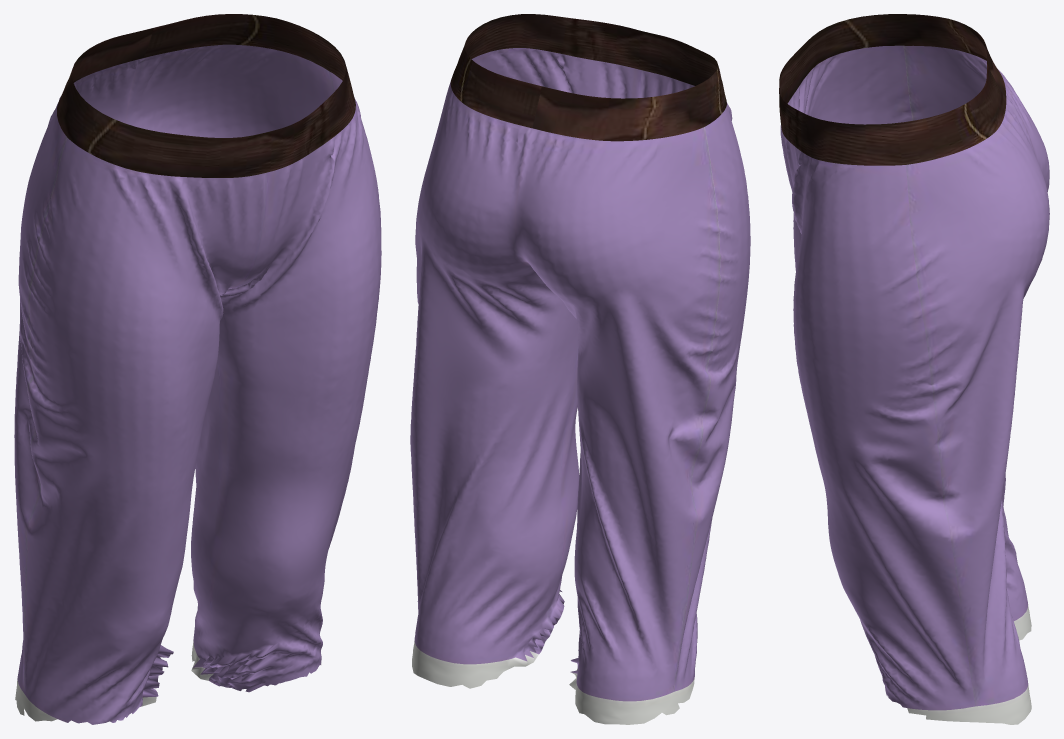
Rendered from female_purple_trouser_36.glb.
3 renders of one model, left to right at view 1: azimuth 30°, elevation 25°; view 2: azimuth 150°, elevation 25°; view 3: azimuth 270°, elevation 25°, orthographic. The views are drawn at different scales.
Visible parts, largest first — view 1: casual_trousers_2_woman_ref.001; view 2: casual_trousers_2_woman_ref.001; view 3: casual_trousers_2_woman_ref.001.
Part boxes in pixels (<box>): casual_trousers_2_woman_ref.001: <box>14,14,381,724</box>; casual_trousers_2_woman_ref.001: <box>410,14,750,724</box>; casual_trousers_2_woman_ref.001: <box>779,14,1049,724</box>.
Bounding box in the file's own units: 0.4572 × 0.89 × 0.36.
Materials: 6 (6 with a texture image).
